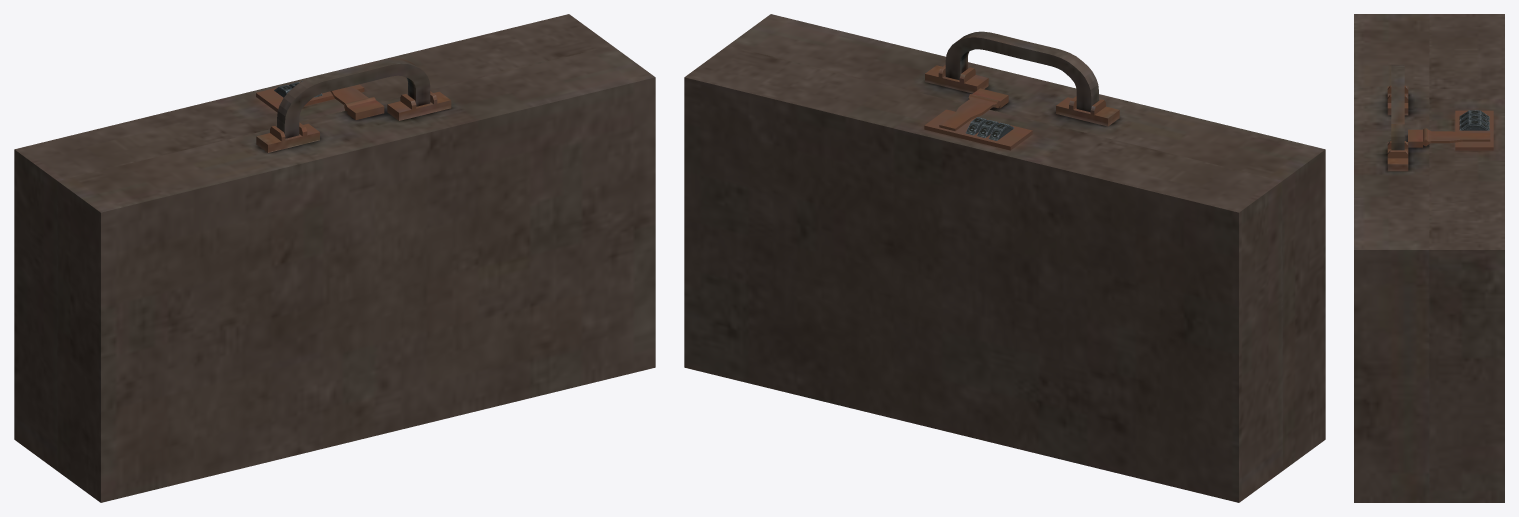
File: briefcase.glb
3 views of the same model, side by side, from view 1: azimuth 30°, elevation 25°; view 2: azimuth 150°, elevation 25°; view 3: azimuth 270°, elevation 25° (orthographic). The views are drawn at different scales.
Parts seen in each view (by area): view 1: case; view 2: case; view 3: case.
Part boxes in pixels (bbox=[...]): case: bbox=[14, 14, 655, 502]; case: bbox=[684, 14, 1325, 502]; case: bbox=[1354, 14, 1504, 502].
Size of the model in its own units: 0.46 by 0.2744 by 0.1243.
Materials: 2 (2 with a texture image).
